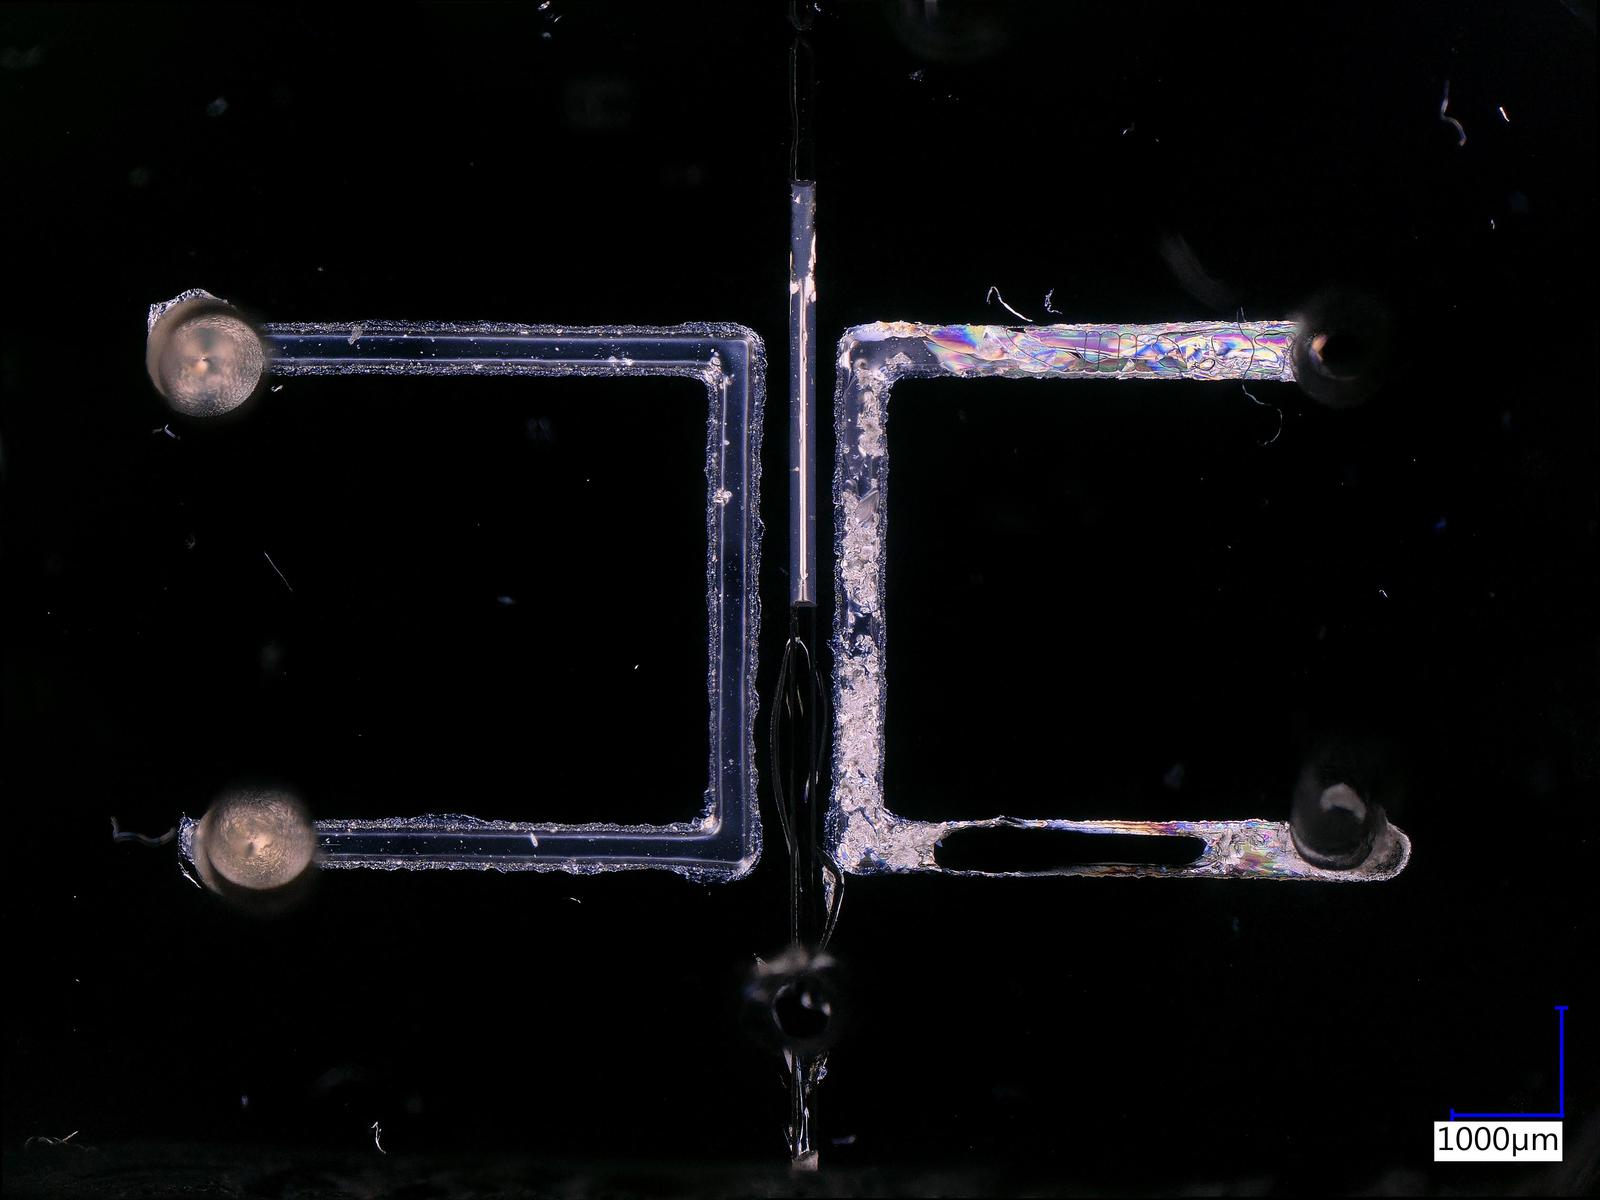sediment: (837, 637, 878, 805), (840, 816, 934, 867), (842, 492, 879, 606), (858, 364, 882, 458)
